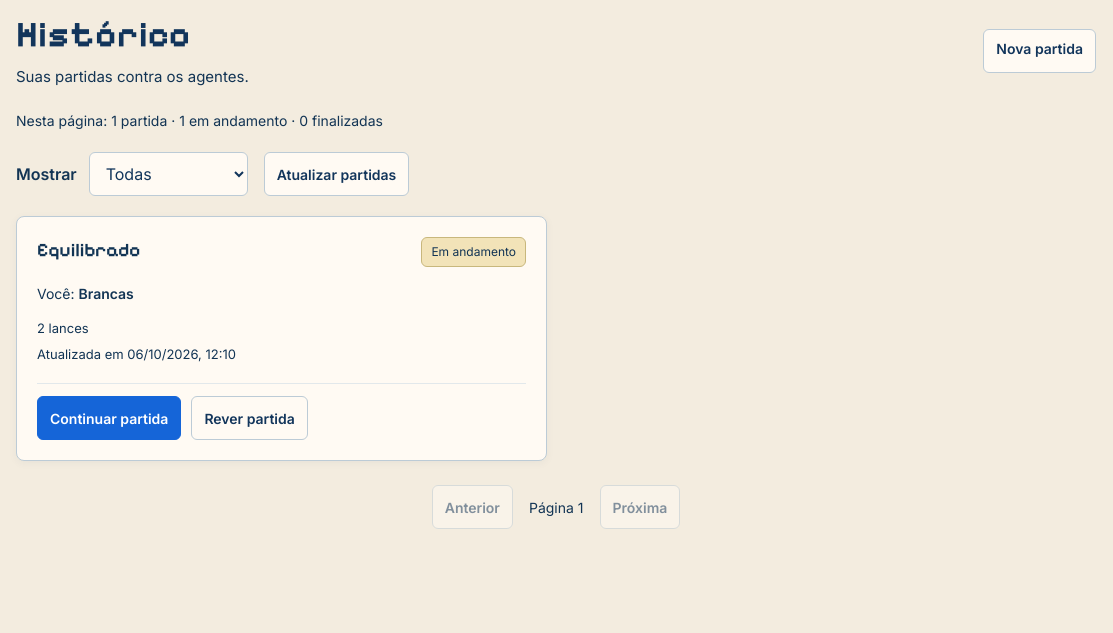
Scenario: erro ao atualizar preserva a lista válida
Expected: the heading "Equilibrado" is shown, [37,239,140,261]
Click the button "Atualizar partidas": (336, 174) [264,152,409,196]
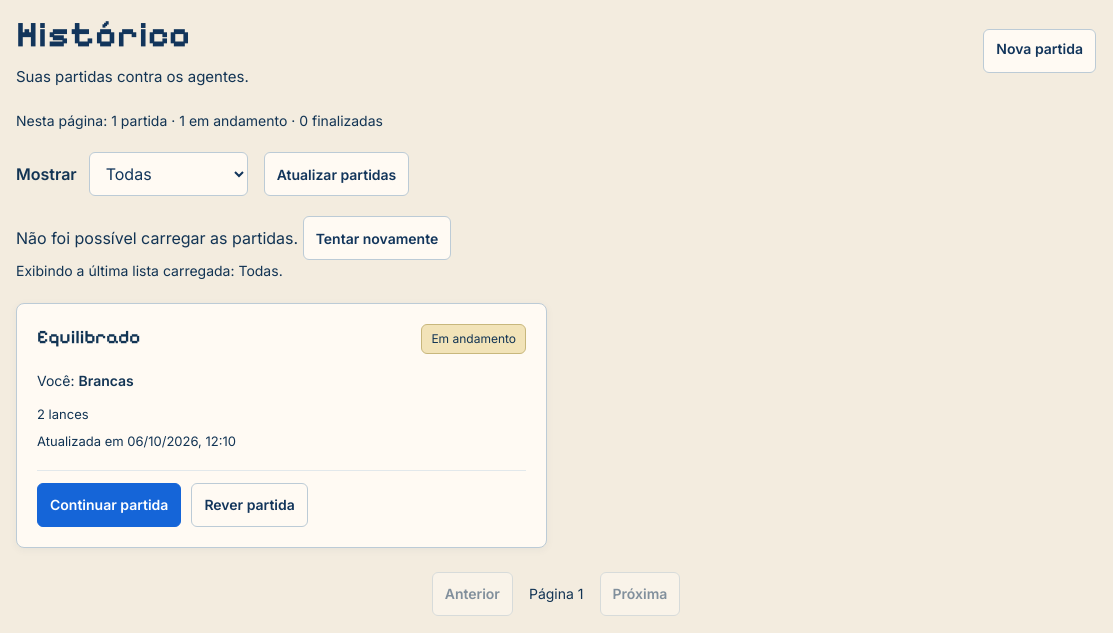
Expected: the heading "Equilibrado" is shown, [37,326,140,348]
Result: the message "Não foi possível carregar as partidas. Tentar novamente" is shown at [16,216,451,260]
Result: the text "Exibindo a última lista carregada: Todas." is shown at [16,262,283,279]
